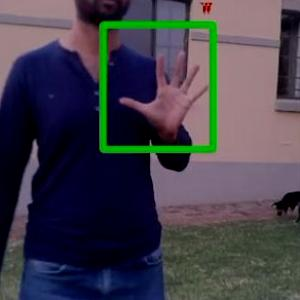follow_hand: (119, 48, 215, 135)
